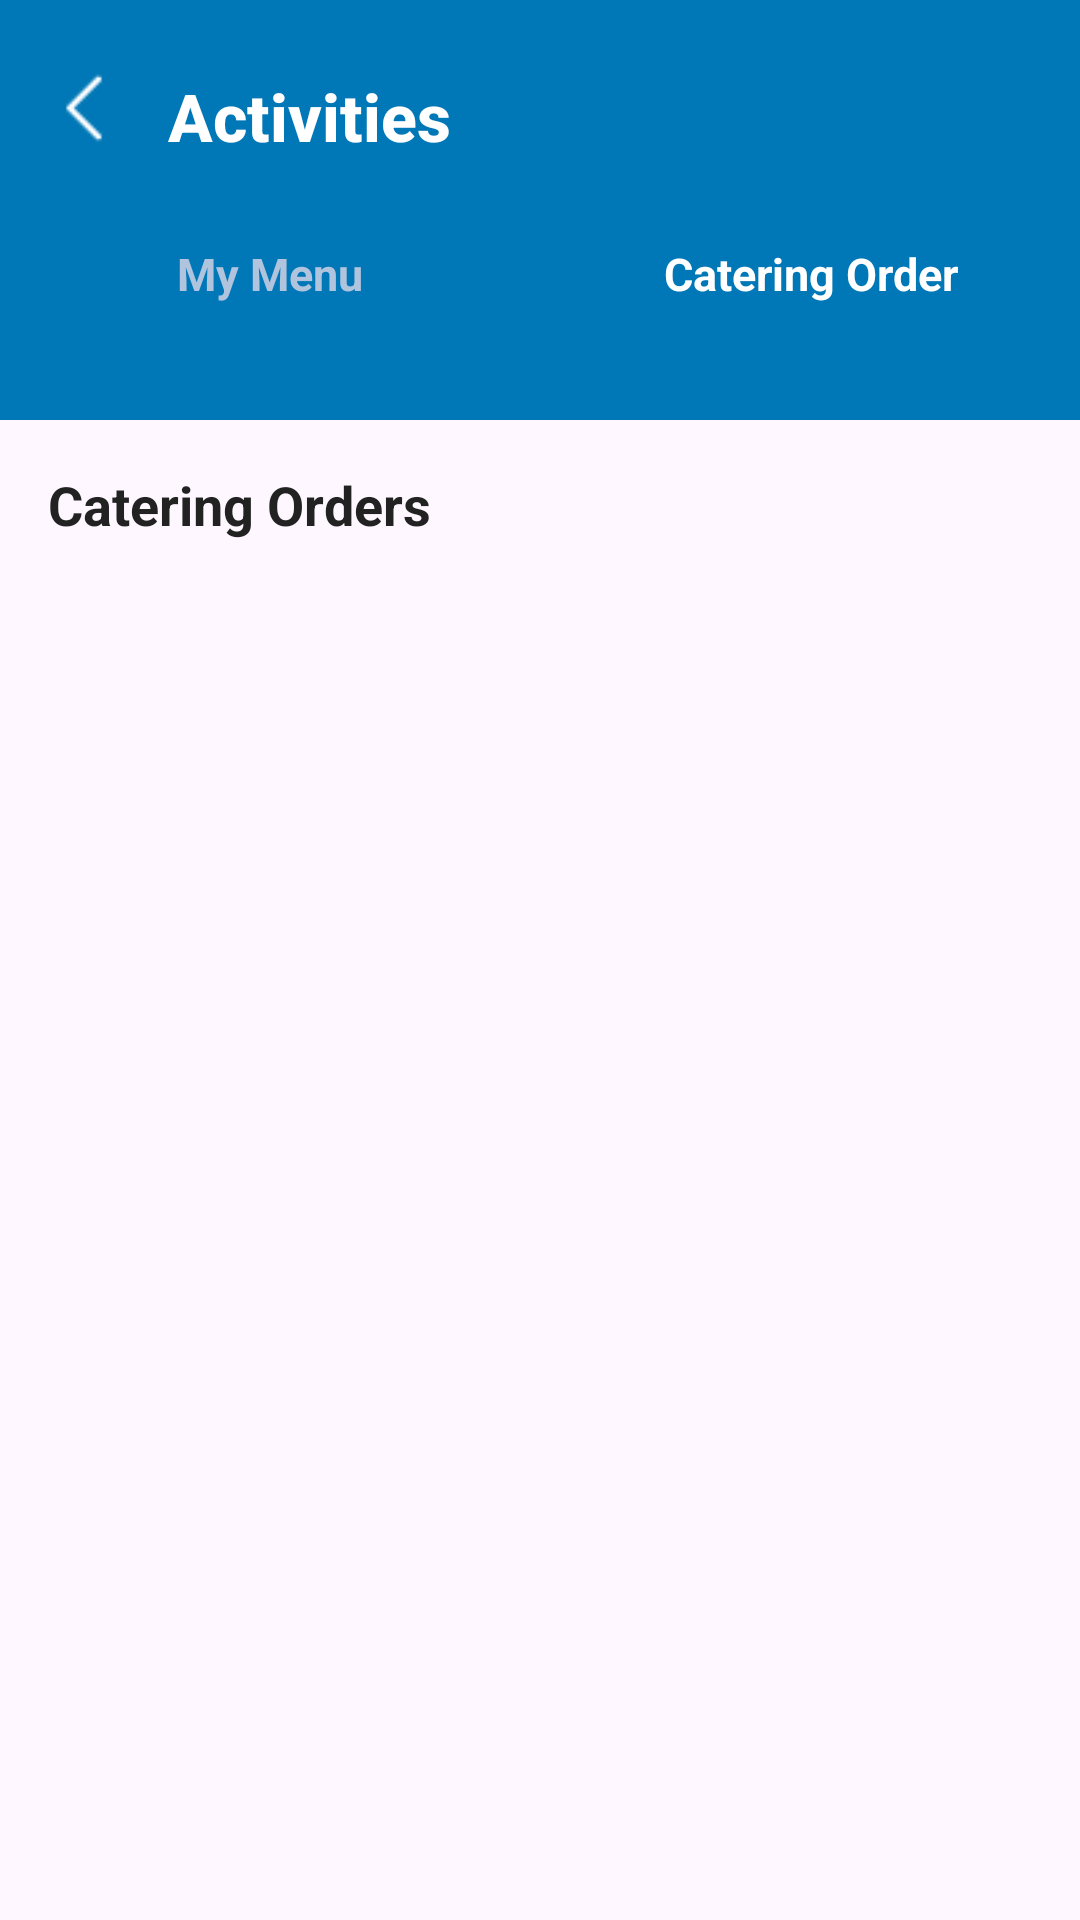

Named icons in this screenshot (1080 x 1920) and their centers, point (x, y):
back: point (84, 108)
